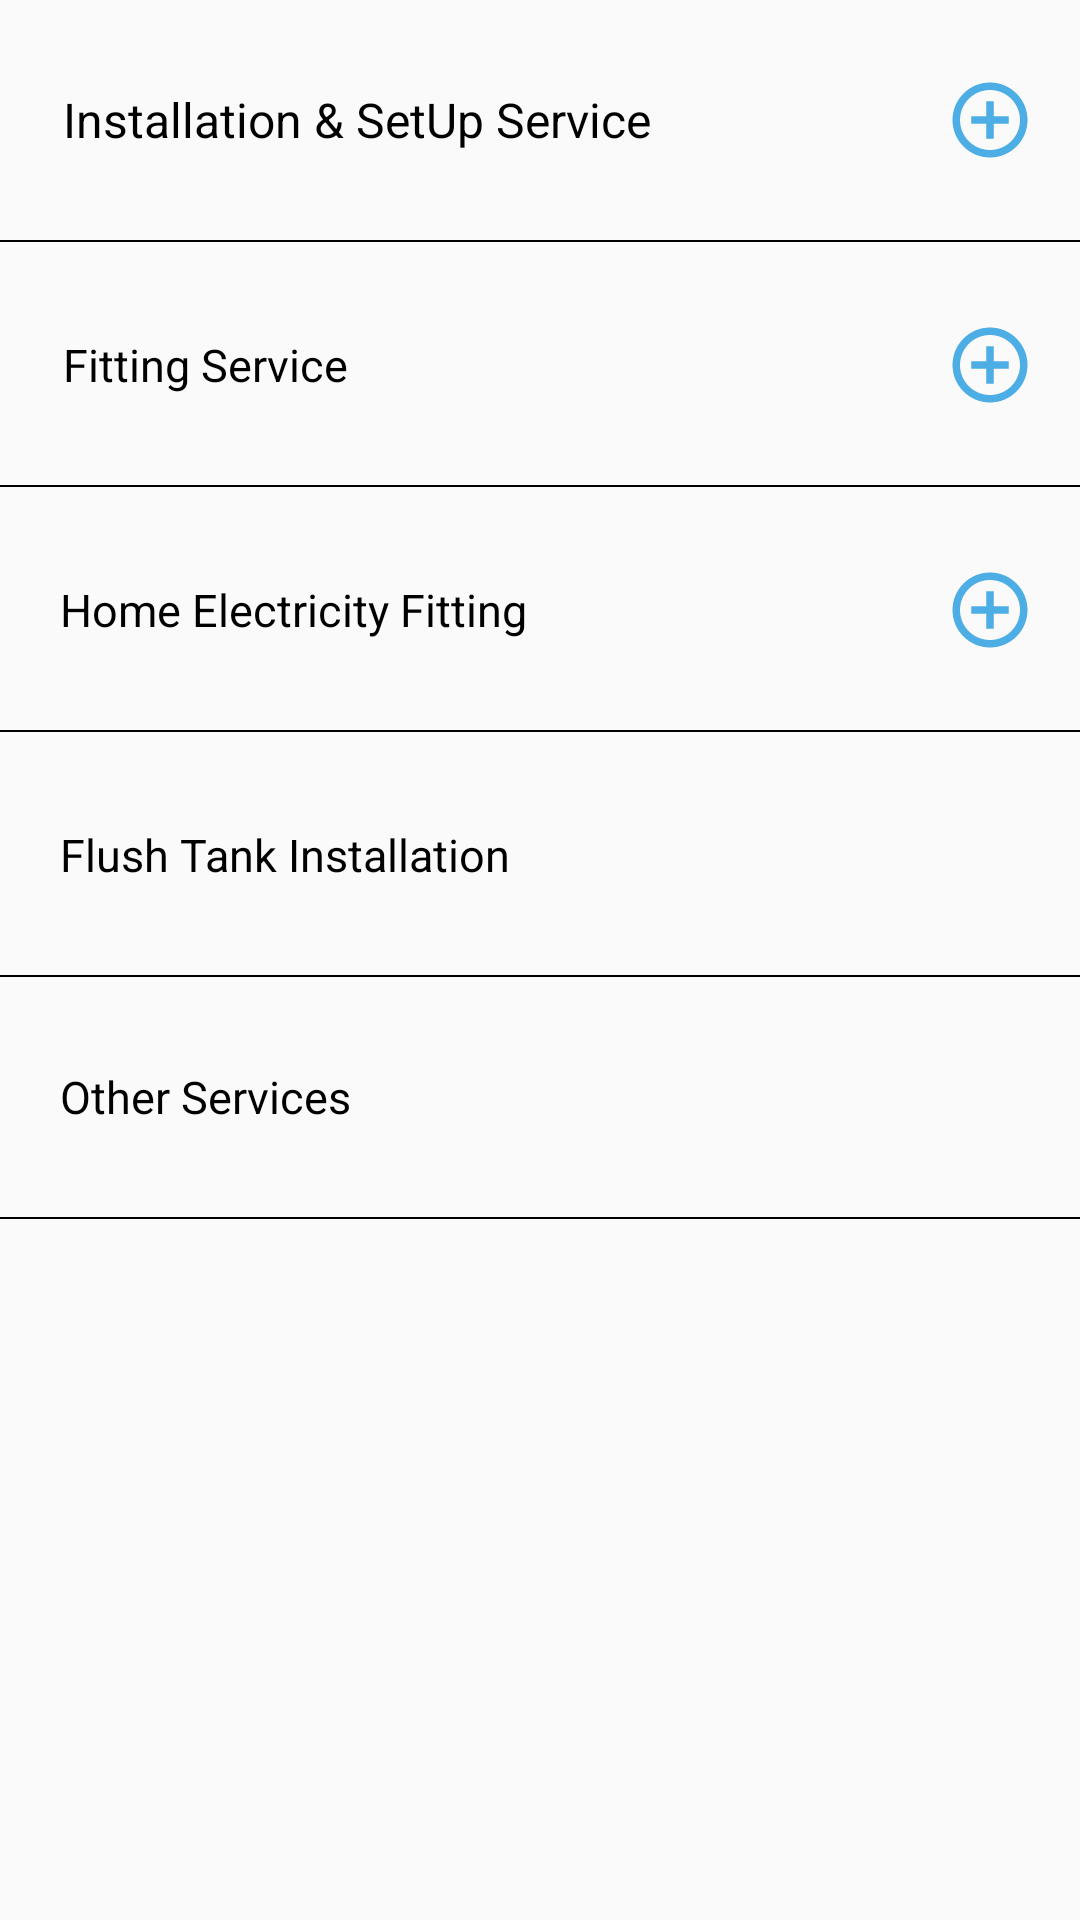

Point at icon controls on the screen. Image size 1080px×1920px, points as (x=x, y=y).
add circle: (x=990, y=120), (x=990, y=365), (x=990, y=610)
